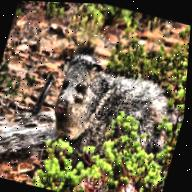boar: (31, 45, 185, 183)
